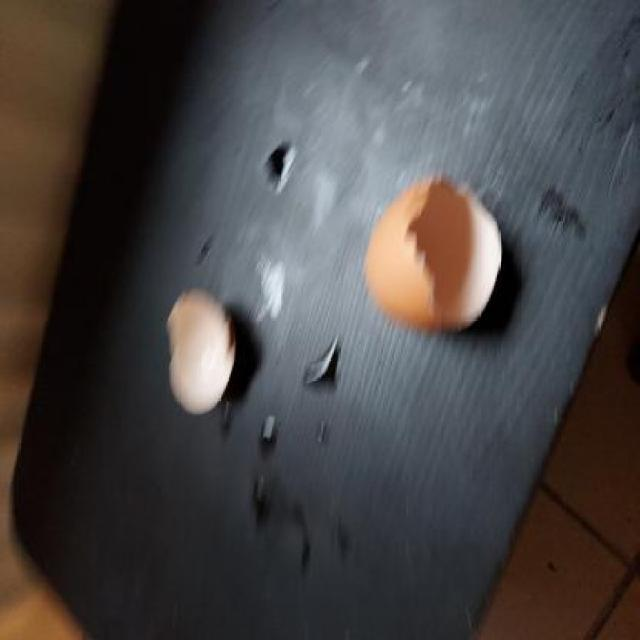biodegradable: (362, 171, 513, 337), (162, 293, 238, 418)
